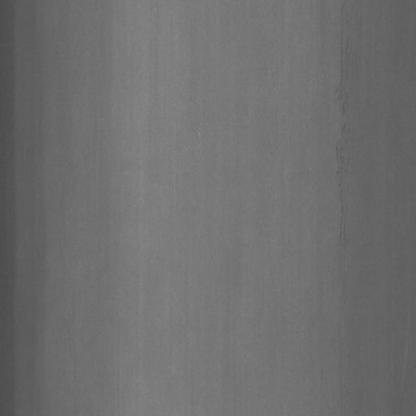silk_spot: (328, 32, 372, 303)
